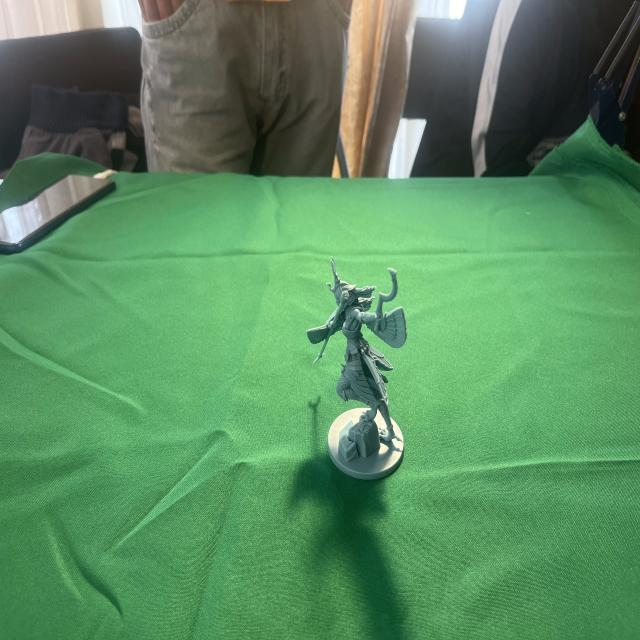isis: (304, 260, 419, 492)
